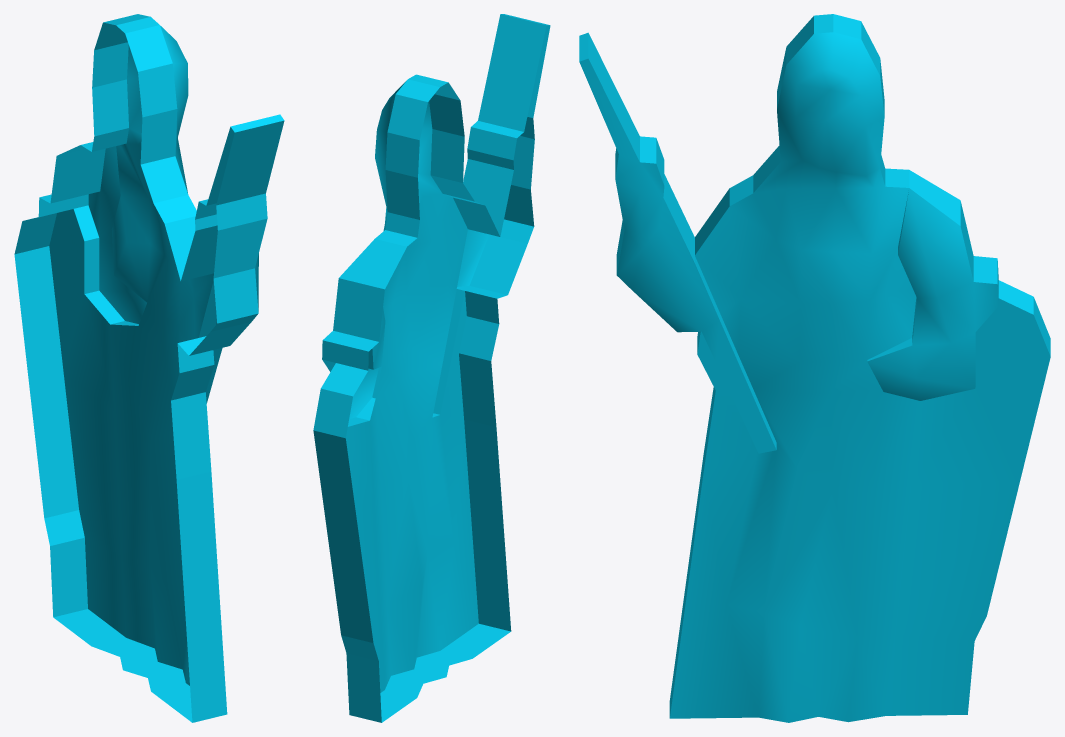
3 views of the same model, side by side, from view 1: azimuth 30°, elevation 25°; view 2: azimuth 150°, elevation 25°; view 3: azimuth 270°, elevation 25° (orthographic). The views are drawn at different scales.
Parts seen in each view (by area): view 1: Object079; view 2: Object079; view 3: Object079.
Part boxes in pixels (<box>): Object079: <box>14,14,284,722</box>; Object079: <box>313,14,550,722</box>; Object079: <box>579,14,1050,722</box>.
Size of the model in its own units: 41.3 by 411 by 256.
